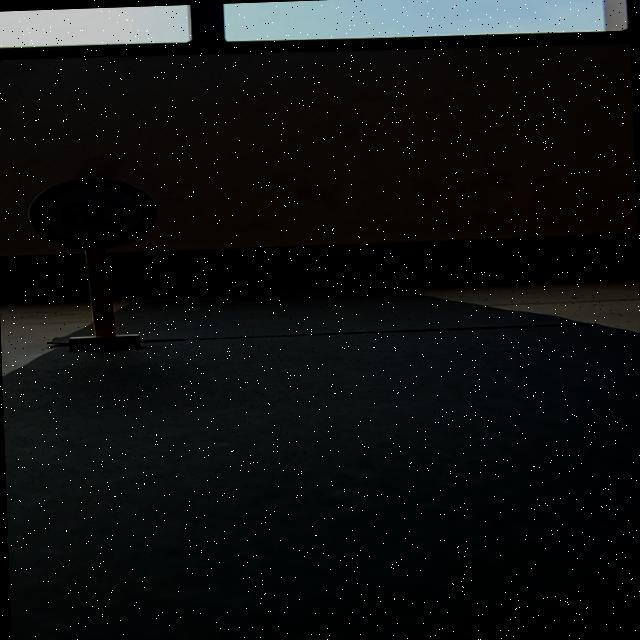Speed60: (18, 174, 164, 252)
